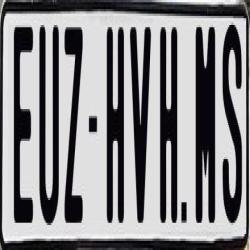E: (13, 23, 35, 218)
H: (158, 23, 179, 231), (107, 23, 126, 225)
M: (195, 25, 216, 232)
S: (222, 23, 240, 229)
U: (39, 25, 61, 225)
V: (128, 25, 153, 232)
Z: (64, 27, 85, 232)
